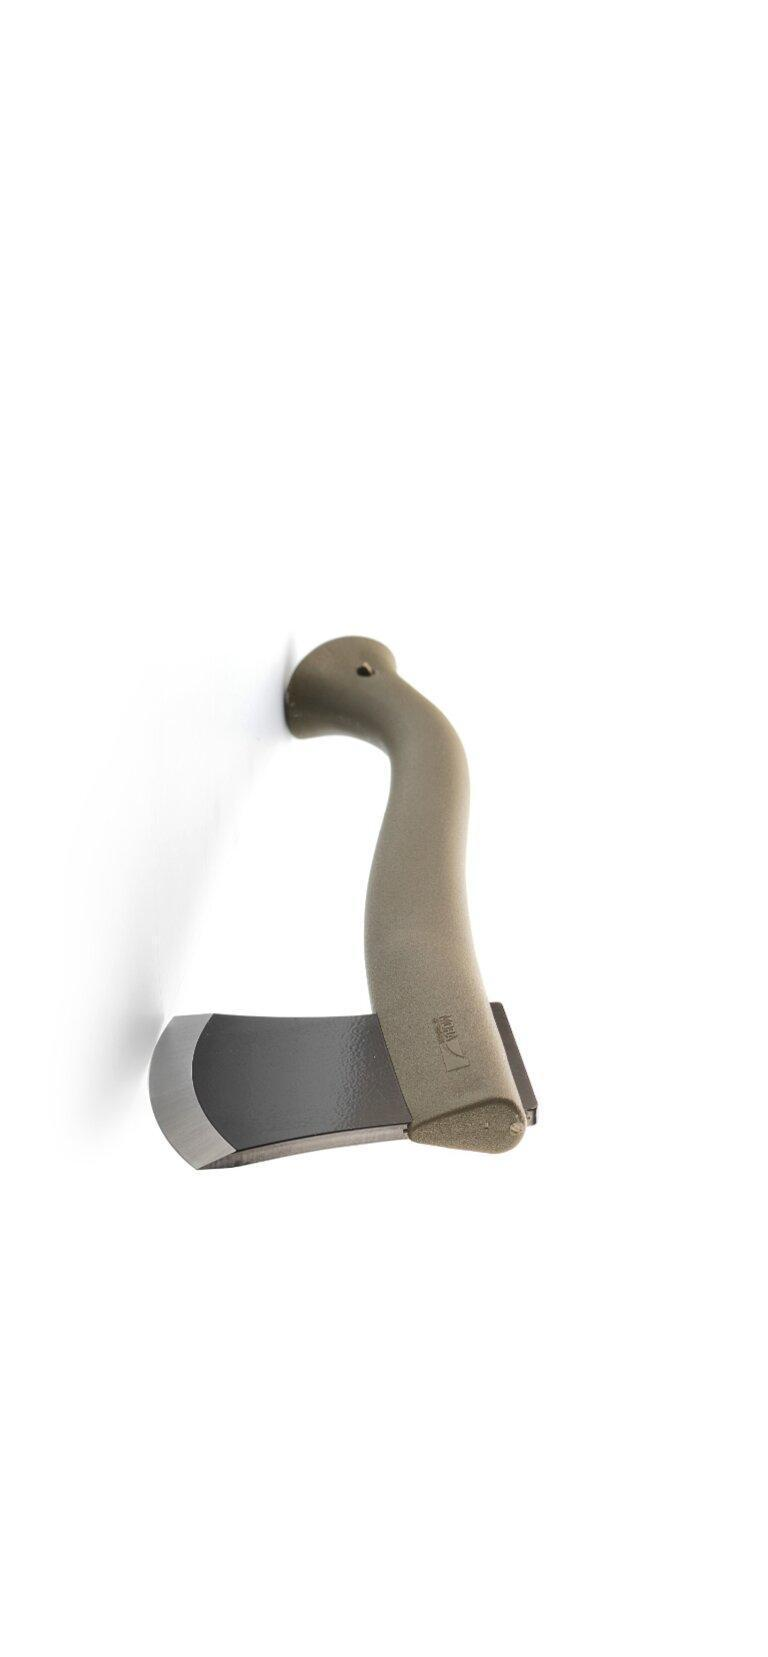machado: (149, 637, 537, 1169)
